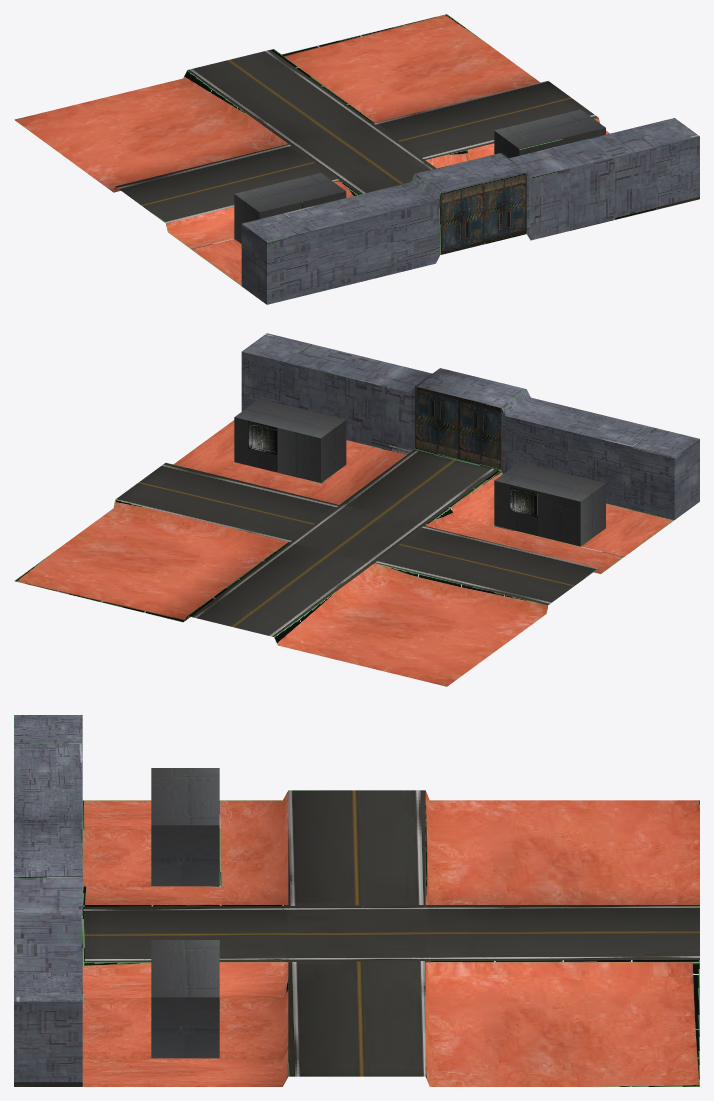
Rendered from levelmap.fbx.
3 renders of one model, top to bottom at view 1: azimuth 30°, elevation 25°; view 2: azimuth 150°, elevation 25°; view 3: azimuth 270°, elevation 25°, orthographic. The views are drawn at different scales.
Parts seen in each view (by area): view 1: Terrain; view 2: Terrain; view 3: Terrain.
Boxes of the visible parts, left/top/right/bottom form: Terrain: left=14, top=14, right=699, bottom=304; Terrain: left=14, top=333, right=699, bottom=686; Terrain: left=14, top=715, right=699, bottom=1086.
Size of the model in its own units: 19.88 by 3.08 by 20.11.
